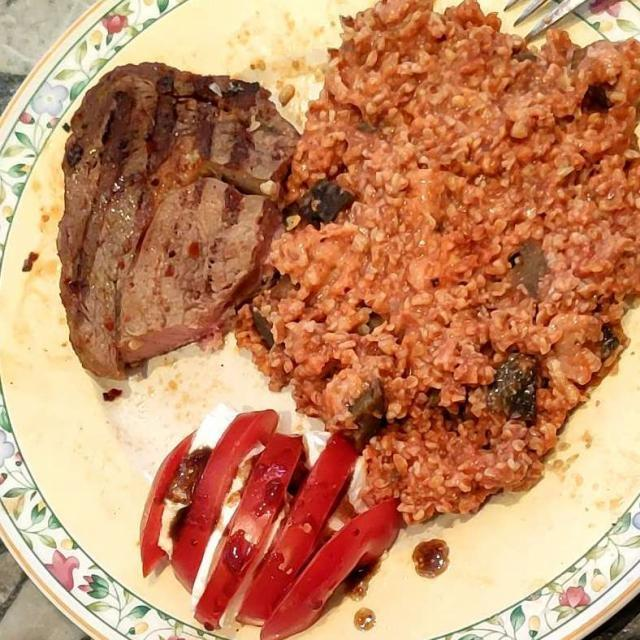beef: (61, 65, 284, 384)
bulgur: (240, 8, 636, 506)
salad: (137, 411, 399, 640), (169, 451, 462, 622)
